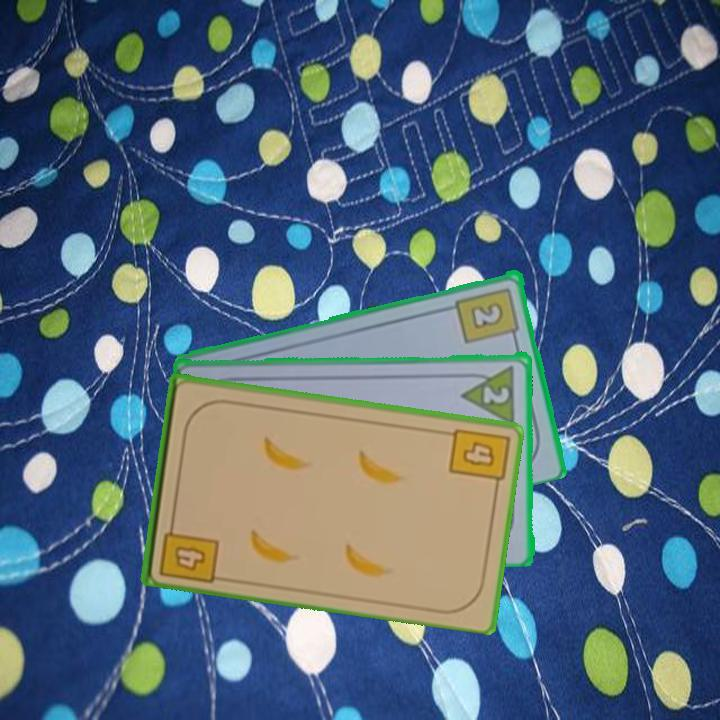2b: (453, 283, 523, 346)
2p: (458, 361, 518, 425)
4b: (155, 514, 221, 585), (444, 424, 511, 493)
